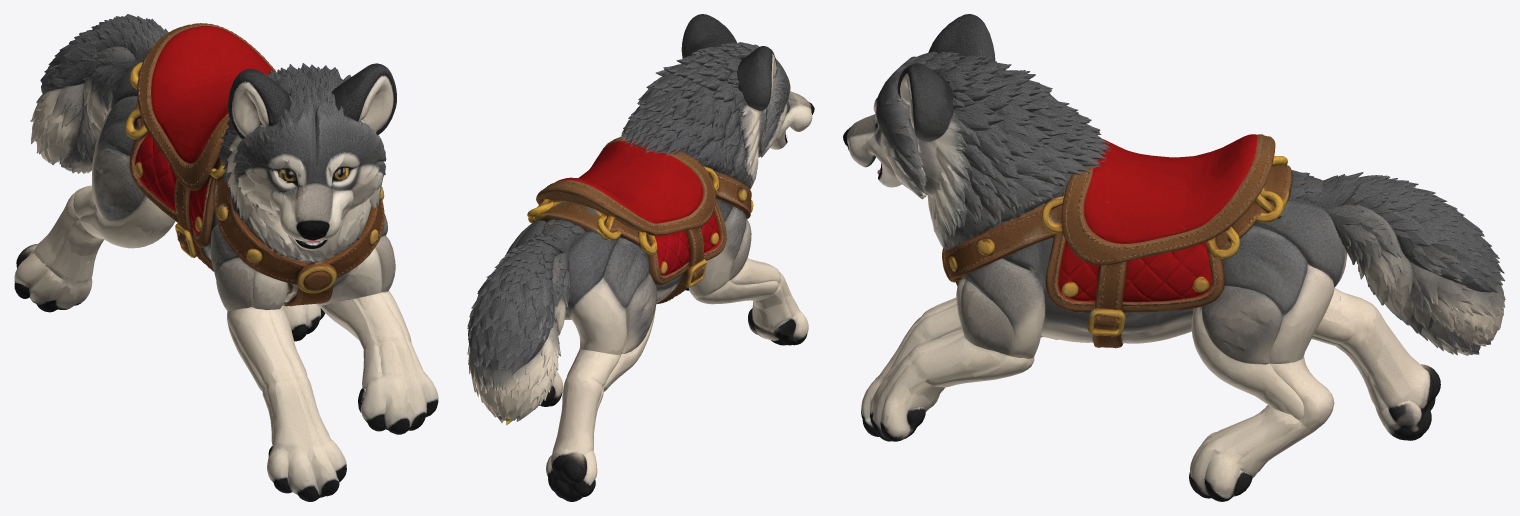
Rendered from wolf.glb.
3 renders of one model, left to right at view 1: azimuth 30°, elevation 25°; view 2: azimuth 150°, elevation 25°; view 3: azimuth 270°, elevation 25°, orthographic. The views are drawn at different scales.
Size of the model in its own units: 0.7264 by 1.3 by 1.9.
1 material, 1 textured.
